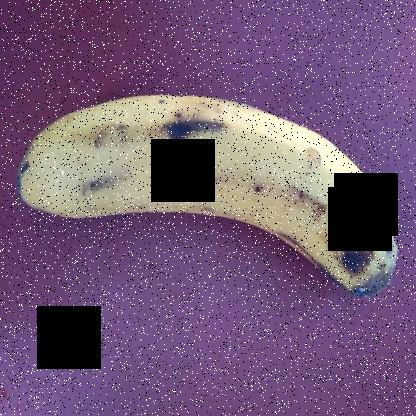ripe: (0, 66, 404, 318)
